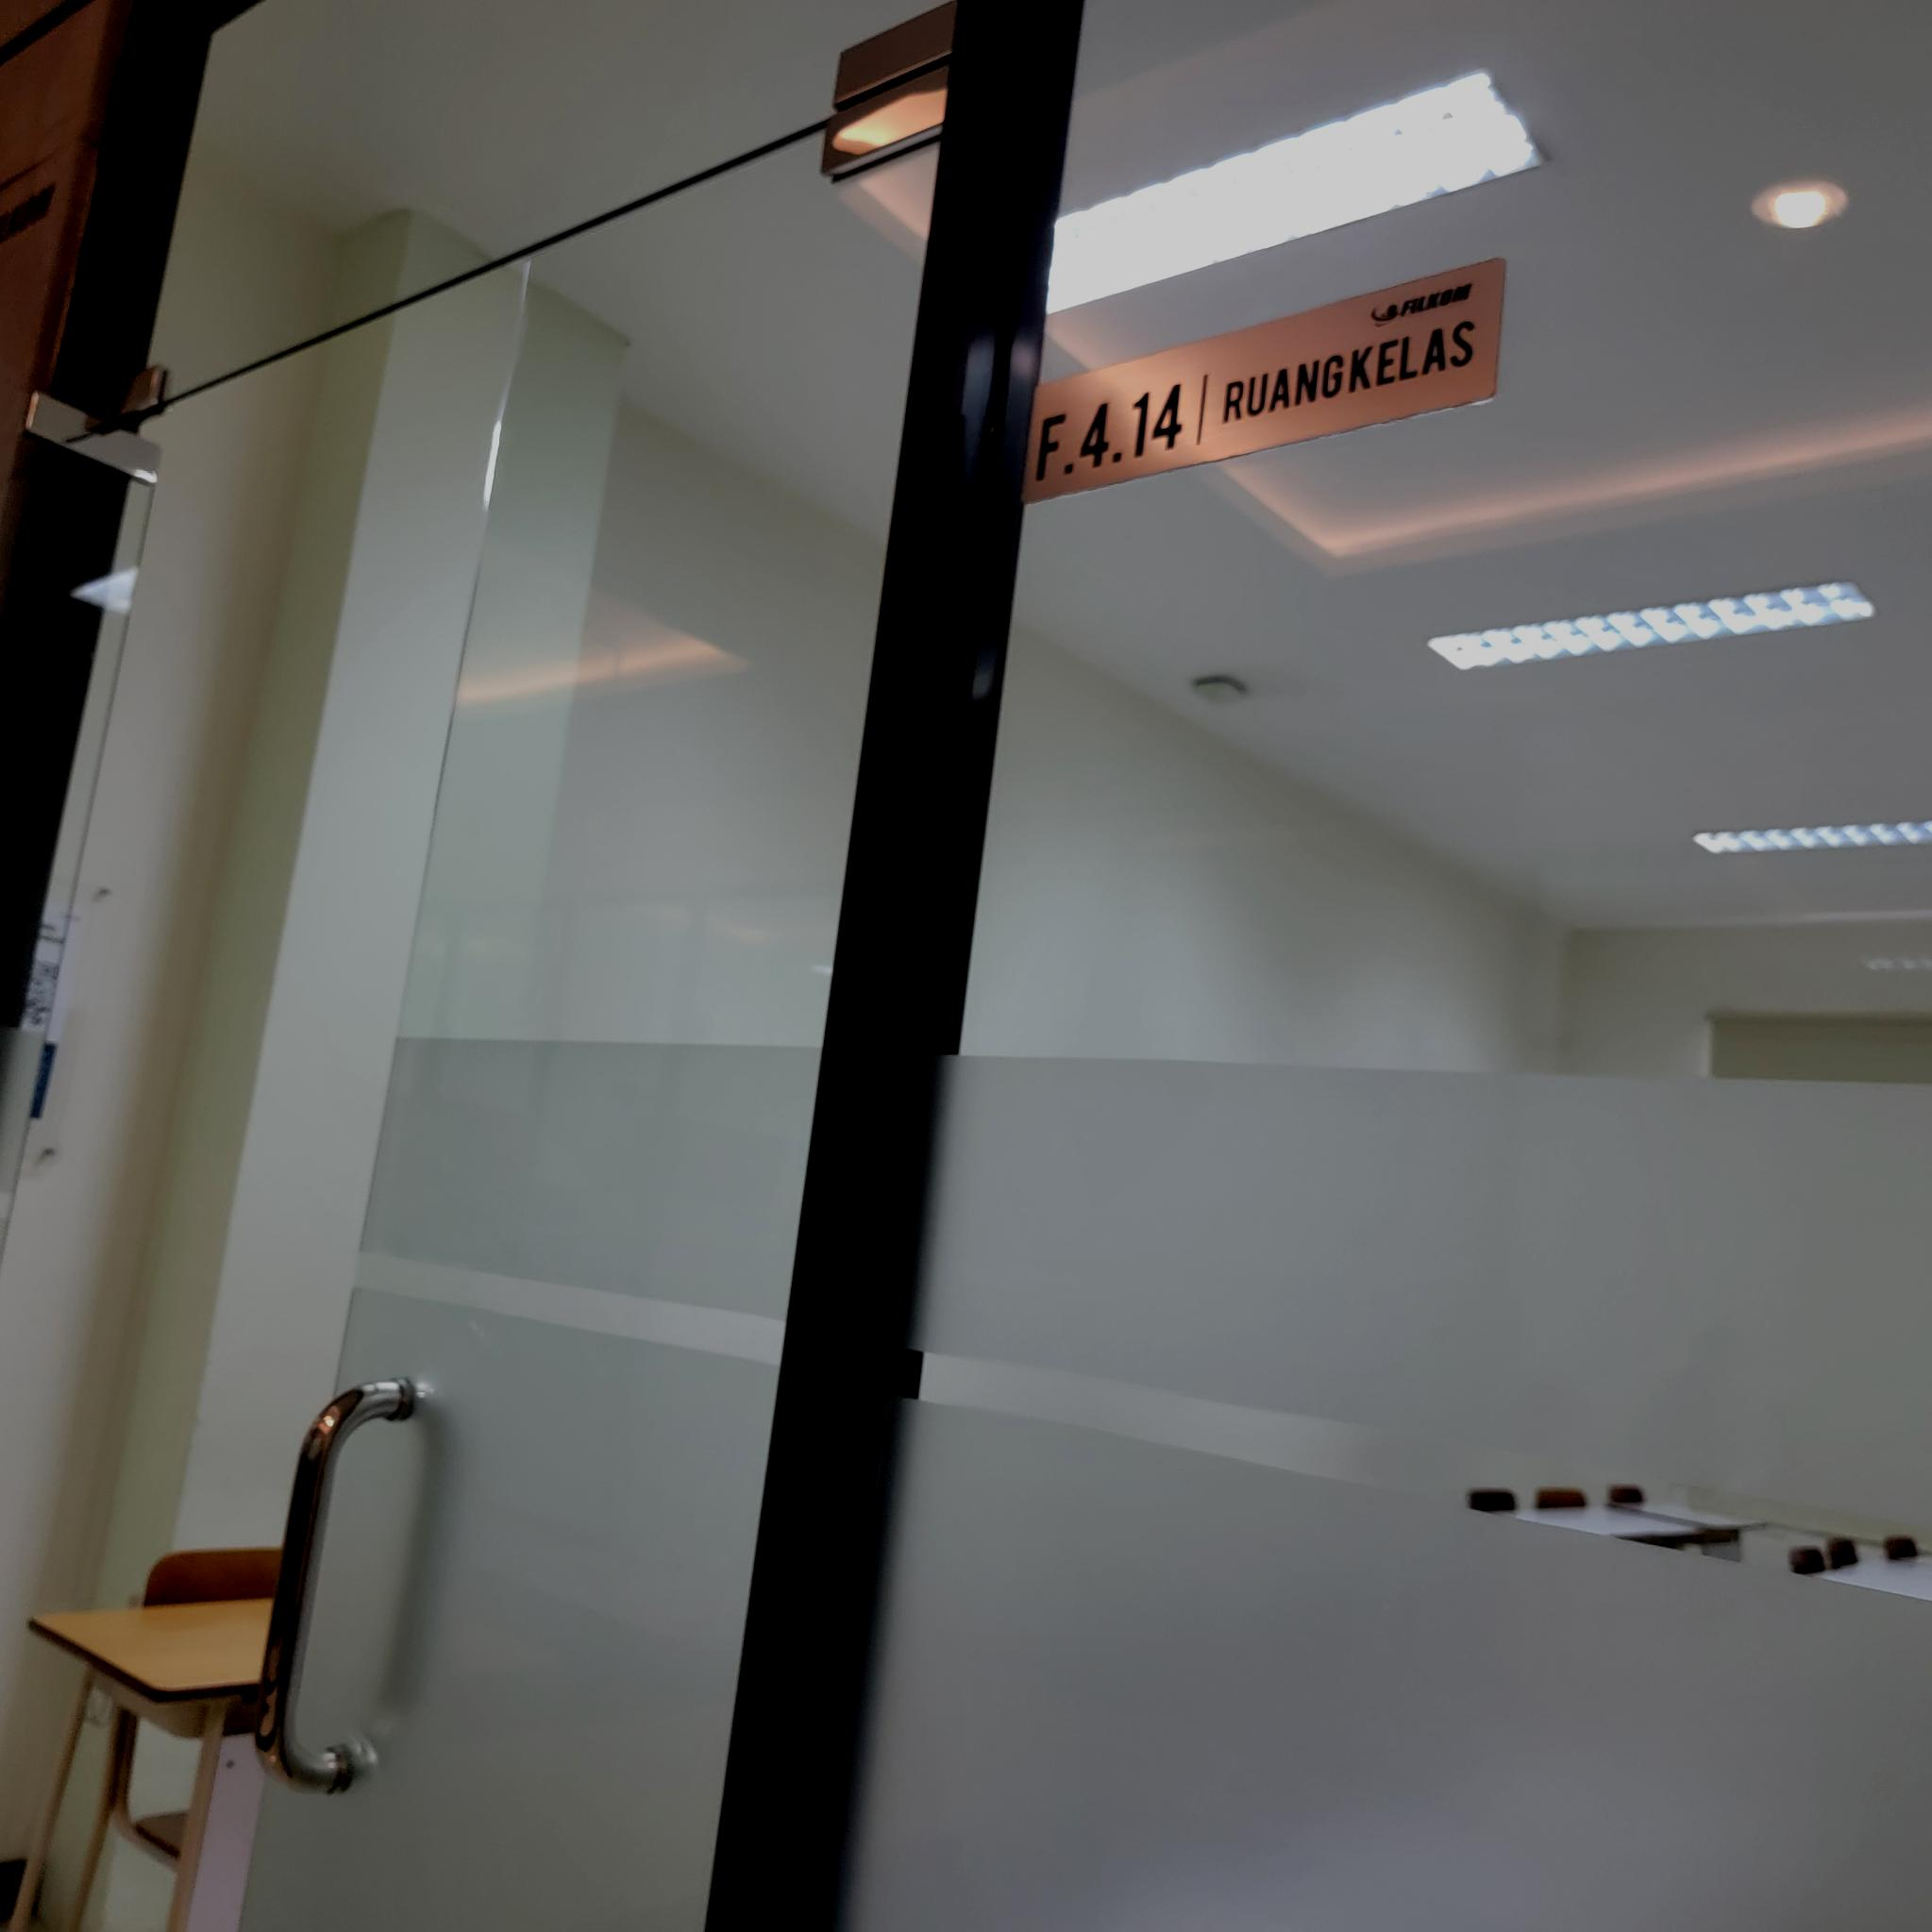plate: (1019, 251, 1506, 506)
